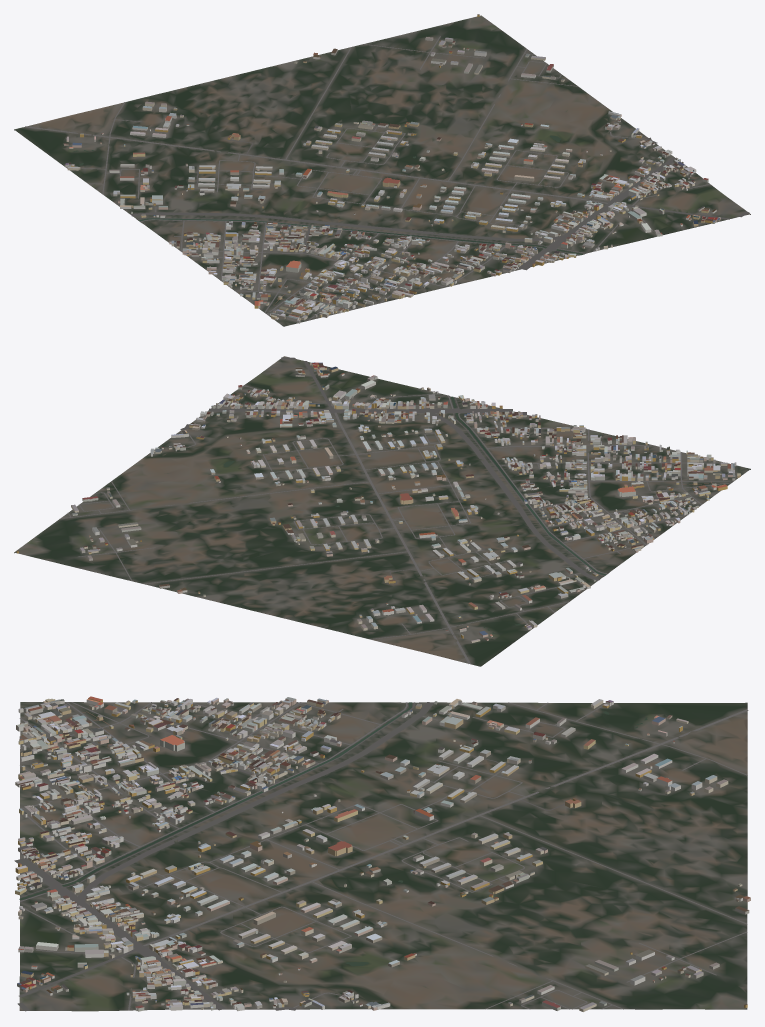
3 renders of one model, top to bottom at view 1: azimuth 30°, elevation 25°; view 2: azimuth 150°, elevation 25°; view 3: azimuth 270°, elevation 25°, orthographic. The views are drawn at different scales.
Parts seen in each view (by area): view 1: ground, buildings, roads, water; view 2: ground, buildings, roads, water; view 3: ground, buildings, roads, water.
Part boxes in pixels (x1,y1,x2,y2): ground: [14, 15, 750, 326]; buildings: [63, 14, 720, 323]; roads: [25, 36, 749, 320]; water: [73, 135, 582, 254]; ground: [14, 356, 750, 666]; buildings: [16, 362, 740, 642]; roads: [60, 357, 733, 663]; water: [223, 396, 605, 633]; ground: [19, 702, 747, 1011]; buildings: [15, 696, 750, 1011]; roads: [14, 702, 748, 1011]; water: [19, 702, 647, 966].
Bounding box in the file's own units: 1420 × 22.01 × 1419.
